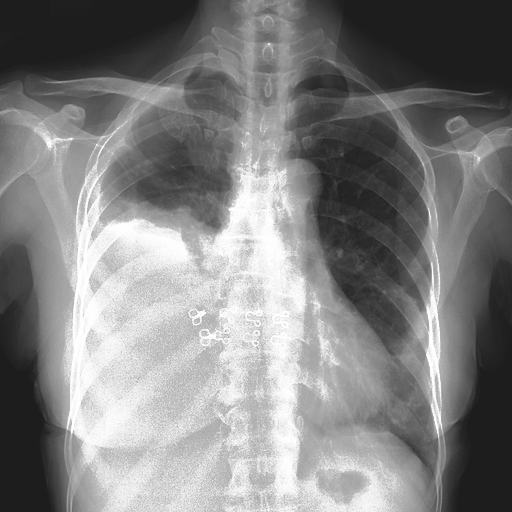Calcification: (88, 67, 224, 217)
Consolidation: (271, 157, 323, 199)
Pleural effusion: (75, 202, 223, 417)
Pleural thickening: (104, 85, 209, 218), (385, 311, 430, 431), (131, 188, 215, 234)
